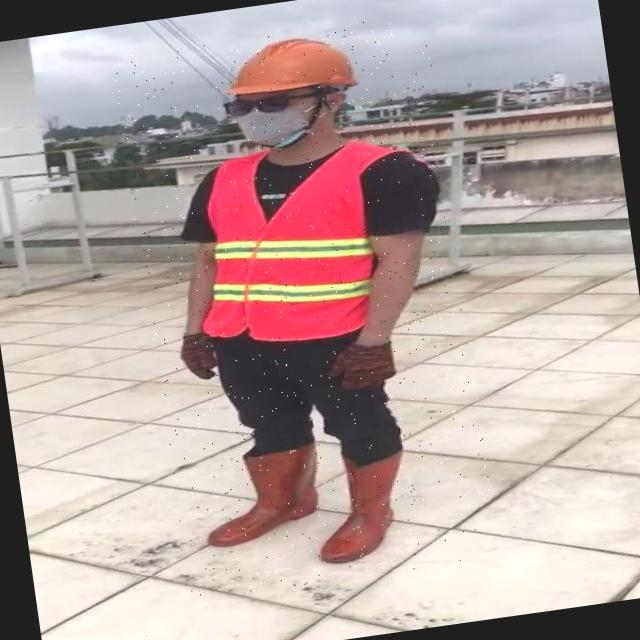boots: (197, 441, 327, 549), (307, 444, 417, 566)
helmet: (212, 26, 369, 106)
vest: (182, 133, 392, 352)
